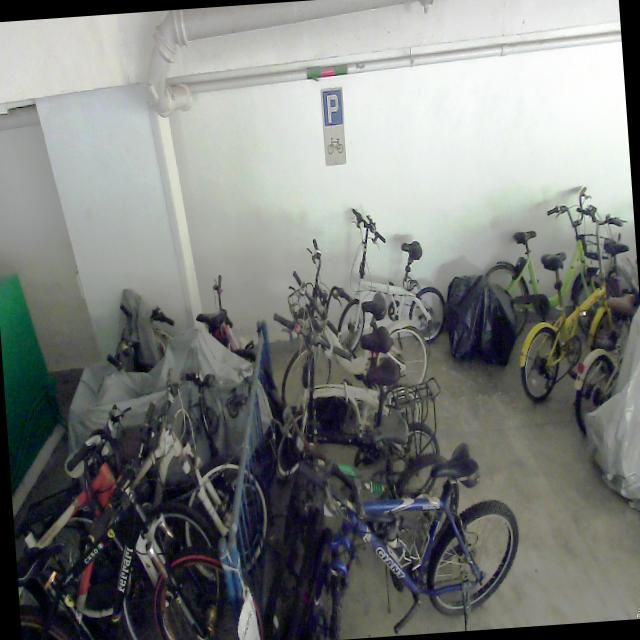bike: (35, 360, 274, 628), (6, 396, 266, 640), (6, 397, 226, 640), (266, 437, 524, 640), (270, 356, 443, 537), (270, 230, 430, 408), (266, 301, 426, 478), (476, 184, 628, 360), (509, 201, 640, 400), (329, 200, 448, 350)
